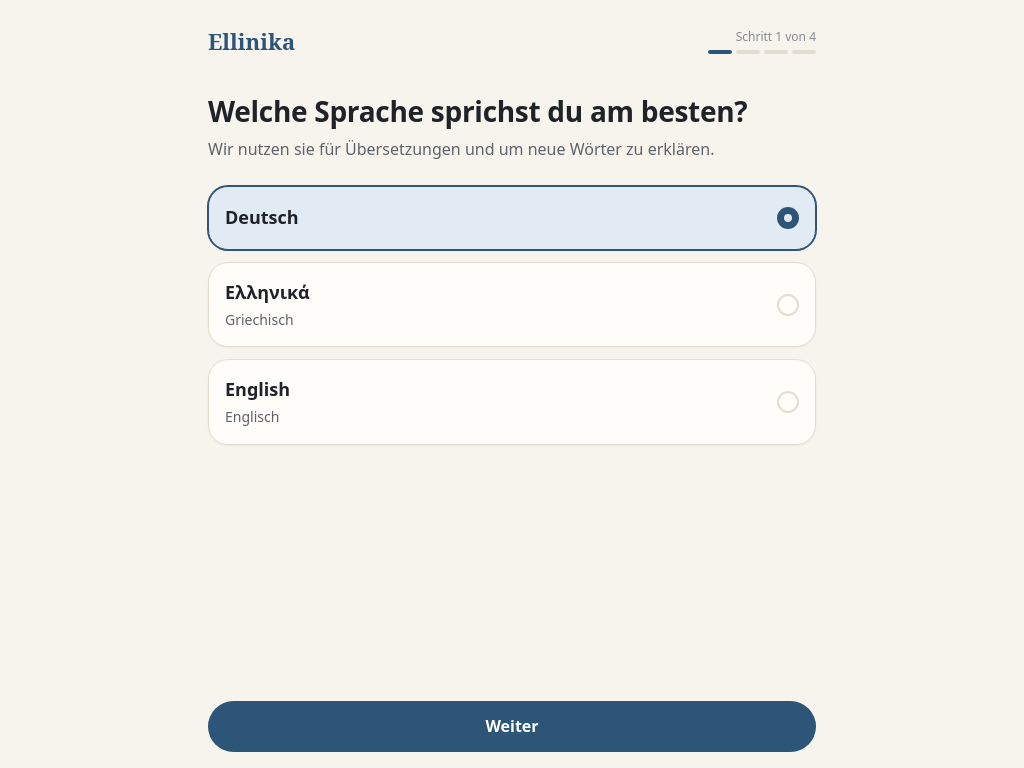
Test: onboarding › saves the choices and lands on Today
Earlier steps of the test are not shown.
Expected: the heading "Welche Sprache sprichst du am besten?" is shown, [208,94,816,129]
Click the button "Weiter".
click(512, 727)  # box [208,701,816,752]
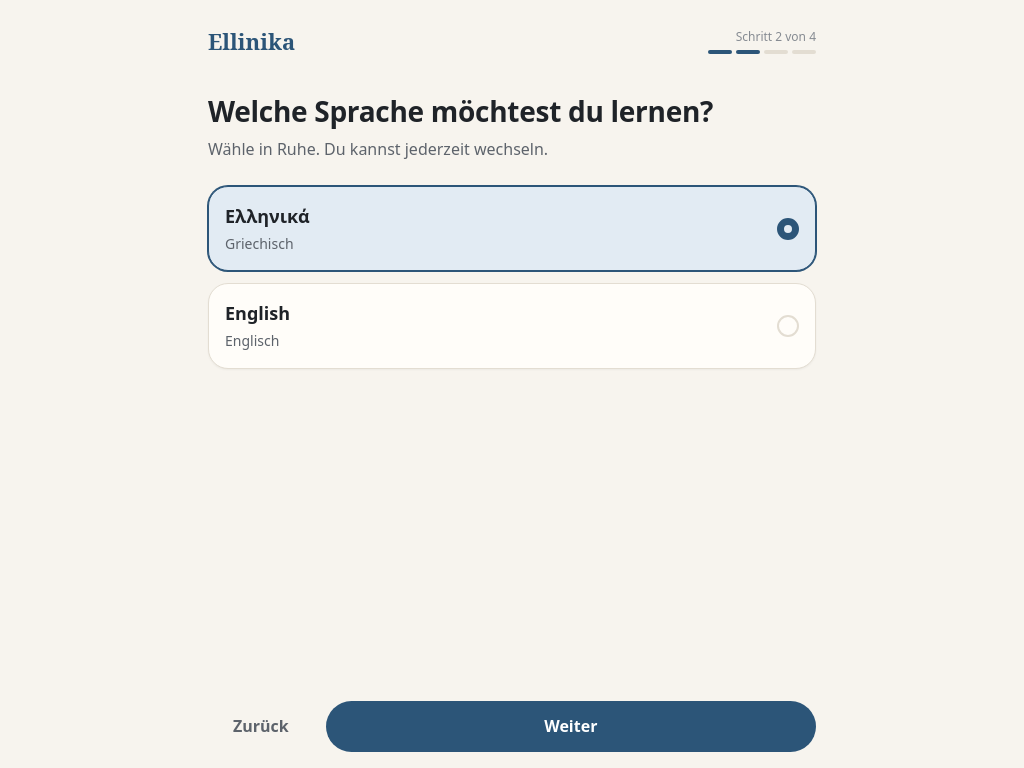
Expected: the radio button labelled "Deutsch" is gone
Click the radio button labelled "English Englisch".
click(258, 313)  # box [208,284,816,369]
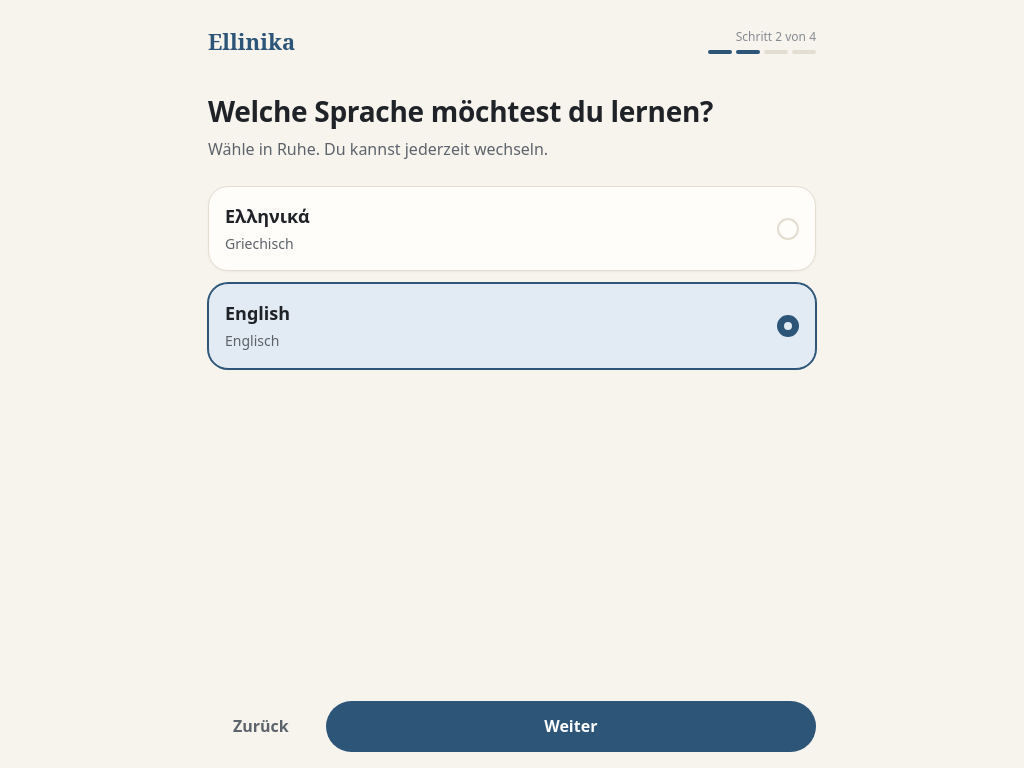
Click the button "Weiter".
click(571, 727)  # box [326,701,816,752]
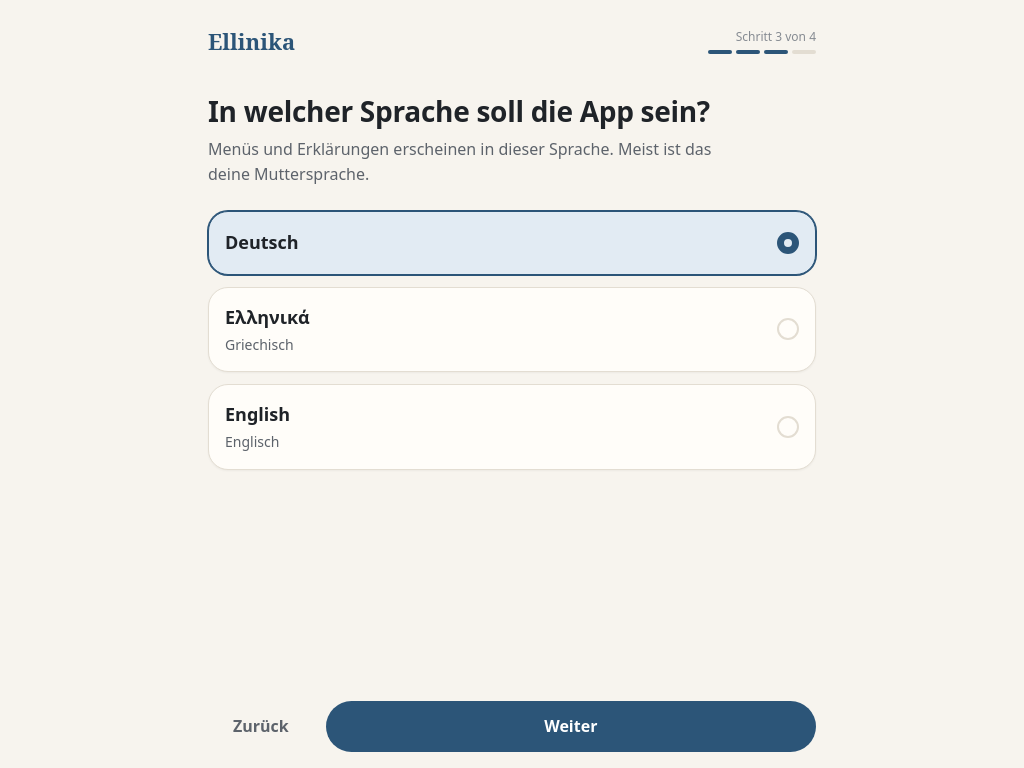
Expected: the radio button labelled "Deutsch" is checked, [208,211,816,275]
Click the button "Weiter".
click(571, 727)  # box [326,701,816,752]
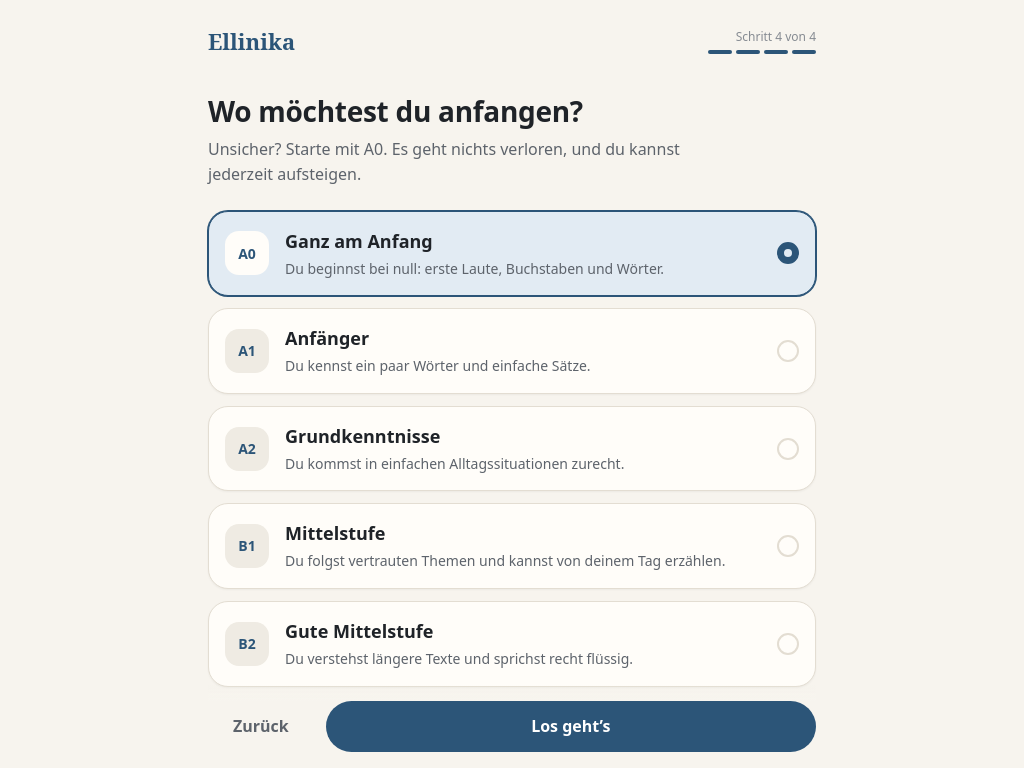
Click the radio button labelled "A2".
click(247, 449)  # box [208,406,816,491]
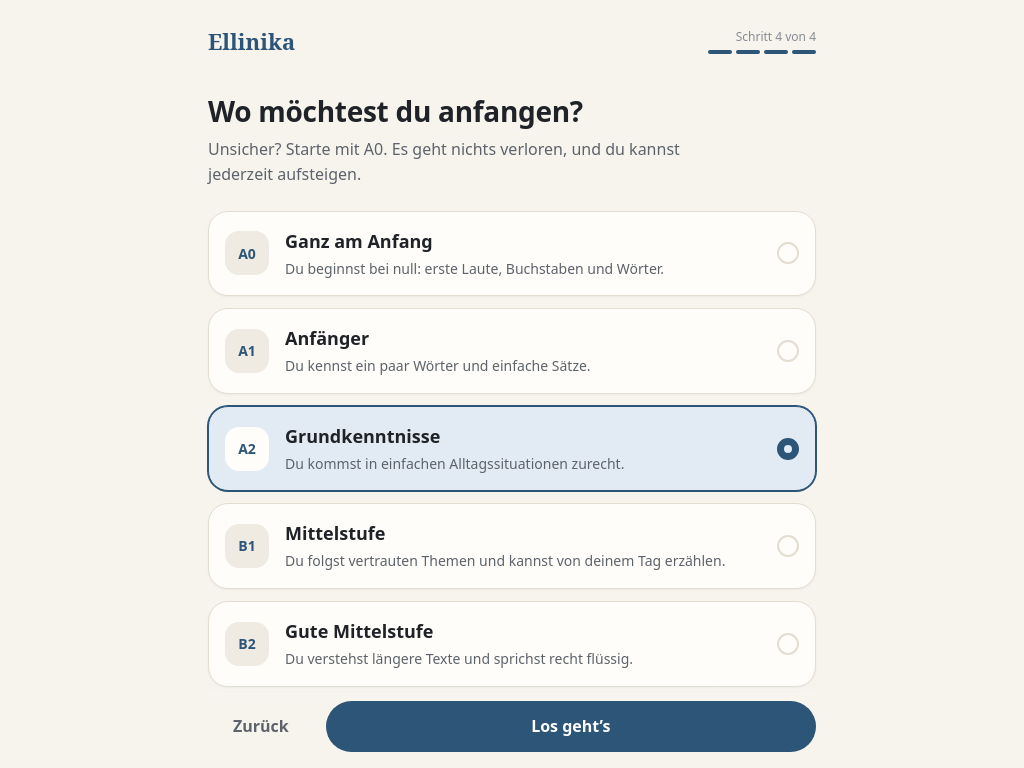
Click the button "Los geht’s".
click(571, 727)  # box [326,701,816,752]
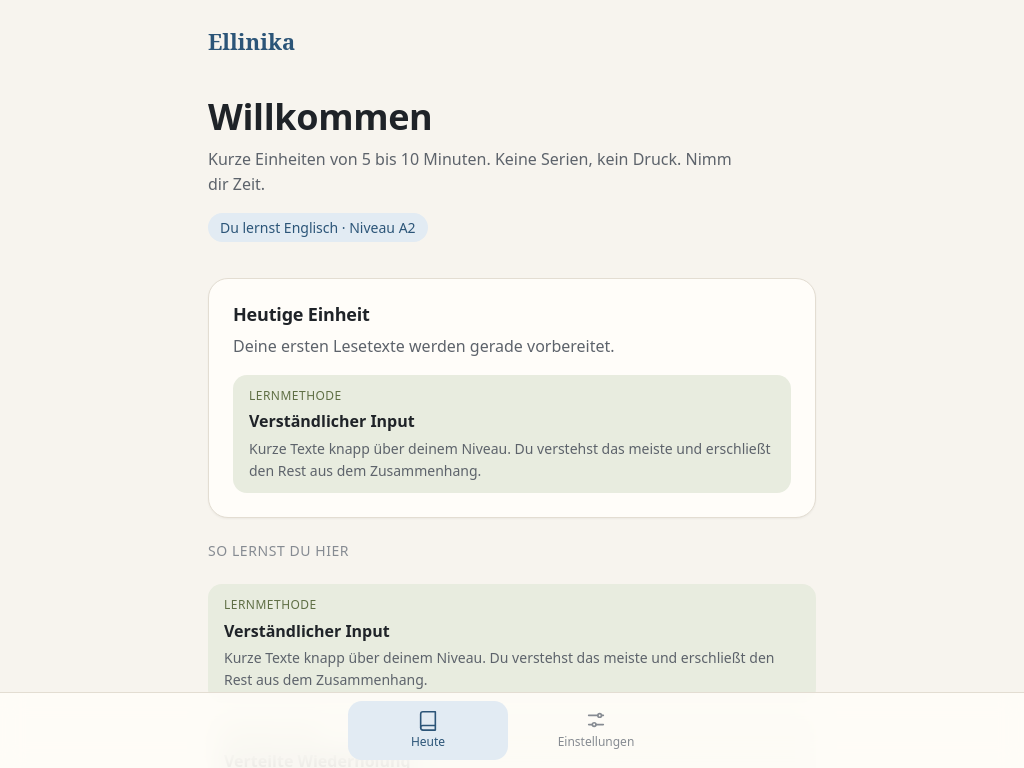
Expected: the text "Du lernst Englisch · Niveau A2" is shown, [208,213,428,242]
